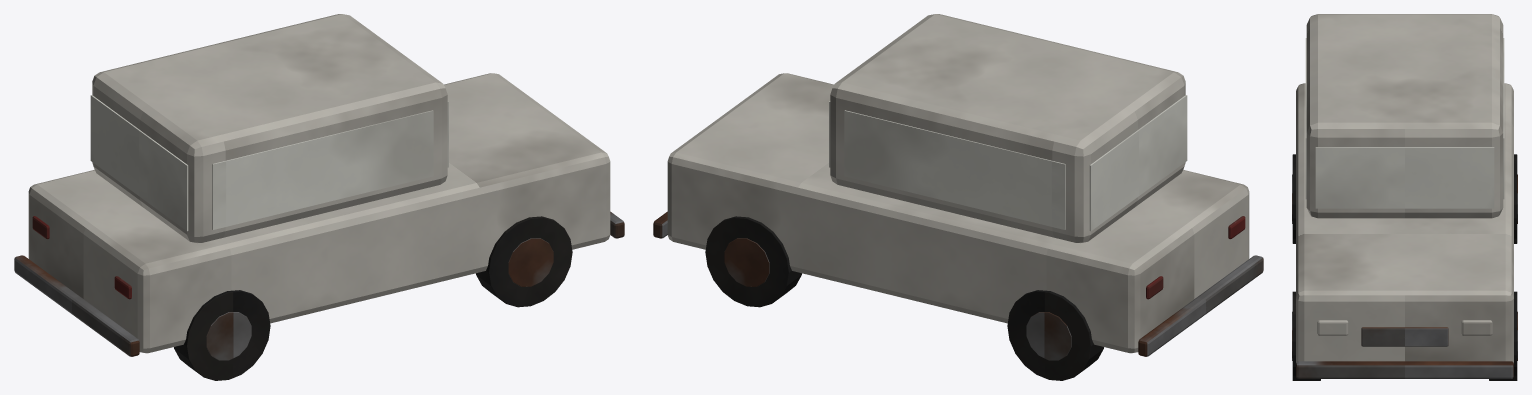
File: CV02_small_hatchback_v2.glb
The picture shows the model from 3 angles, left to right: view 1: azimuth 30°, elevation 25°; view 2: azimuth 150°, elevation 25°; view 3: azimuth 270°, elevation 25°; orthographic projection. The views are drawn at different scales.
Visible parts, largest first — view 1: CV02_small_hatchback_v2; view 2: CV02_small_hatchback_v2; view 3: CV02_small_hatchback_v2.
Boxes of the visible parts, left/top/right/bottom form: CV02_small_hatchback_v2: left=14, top=14, right=624, bottom=380; CV02_small_hatchback_v2: left=653, top=14, right=1263, bottom=380; CV02_small_hatchback_v2: left=1292, top=14, right=1517, bottom=380.
Size of the model in its own units: 3.6 by 1.62 by 1.53.
6 materials, 6 textured.
